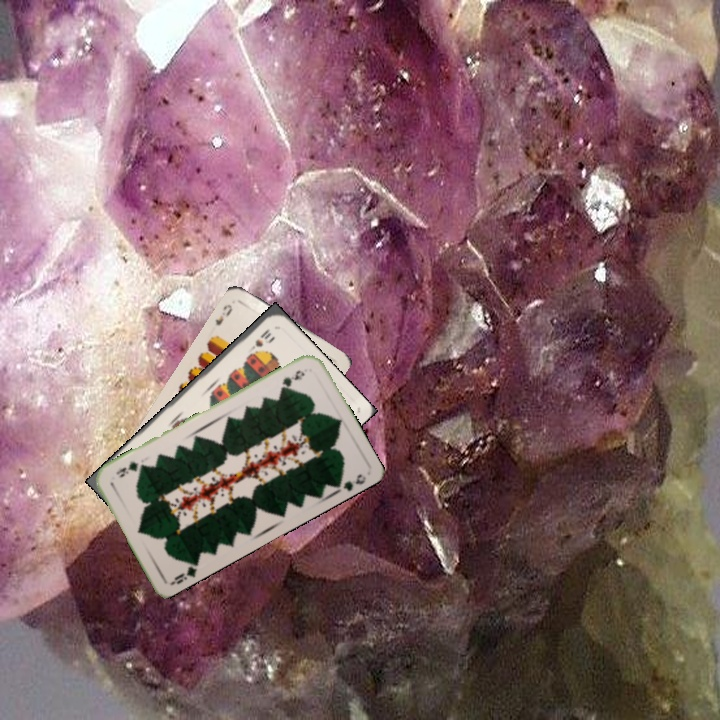E9: (211, 300, 235, 328)
G9: (167, 555, 201, 587), (277, 366, 307, 392)
S10: (244, 325, 274, 356)
